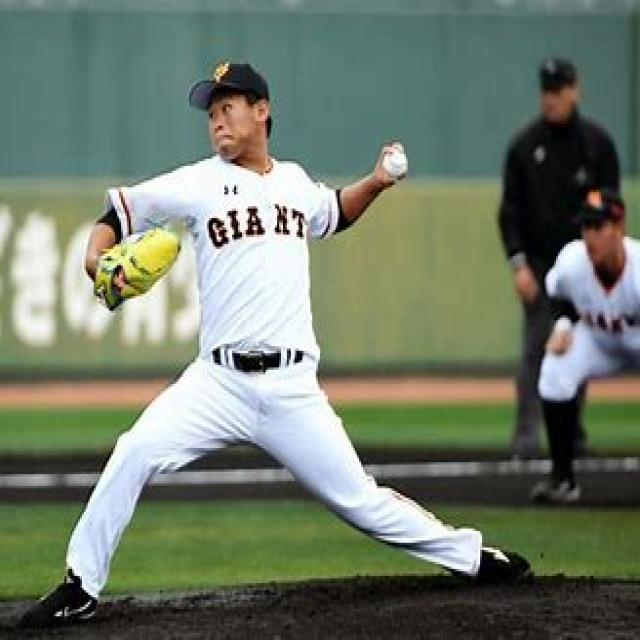ball: (382, 148, 409, 182)
glove: (91, 226, 183, 313)
